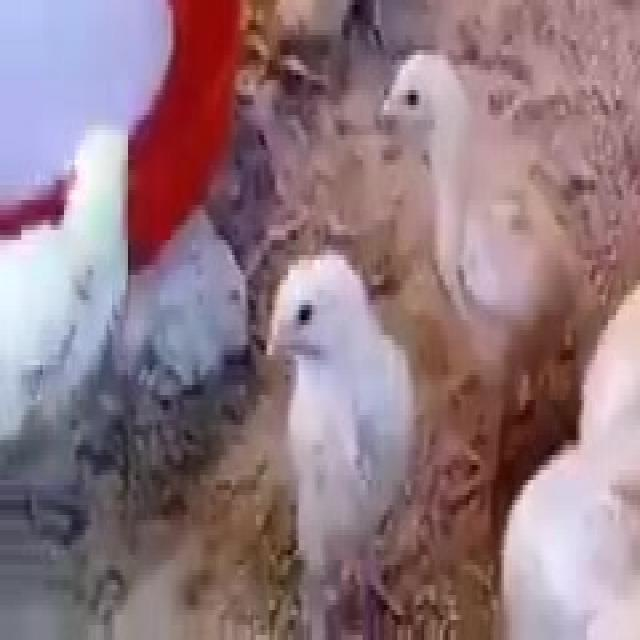poussin: (386, 52, 586, 453), (260, 247, 424, 610), (0, 120, 140, 476)
